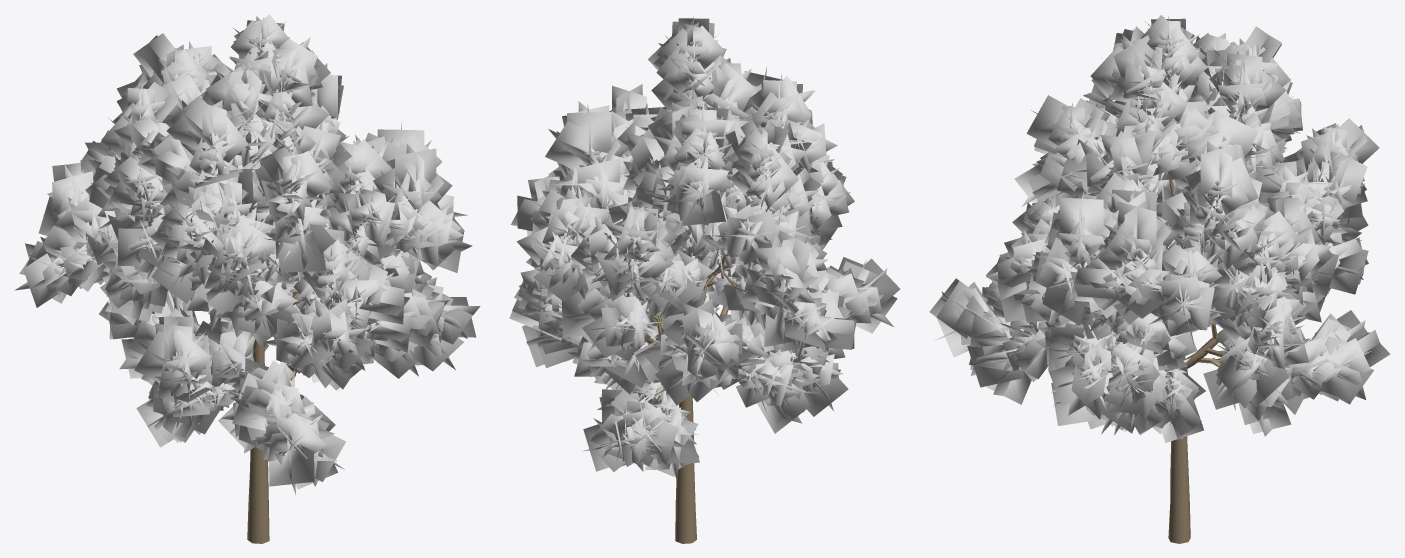
The model's file is tree-0.gltf.
3 renders of one model, left to right at view 1: azimuth 30°, elevation 25°; view 2: azimuth 150°, elevation 25°; view 3: azimuth 270°, elevation 25°, orthographic. The views are drawn at different scales.
Parts seen in each view (by area): view 1: leaves, bark; view 2: leaves, bark; view 3: leaves, bark.
Boxes of the visible parts, left/top/right/bottom form: leaves: left=14, top=14, right=480, bottom=494; bark: left=194, top=289, right=332, bottom=543; leaves: left=509, top=16, right=900, bottom=480; bark: left=618, top=89, right=743, bottom=543; leaves: left=929, top=15, right=1390, bottom=442; bark: left=1028, top=179, right=1299, bottom=543.
Size of the model in its own units: 5.19 by 7 by 5.57.
